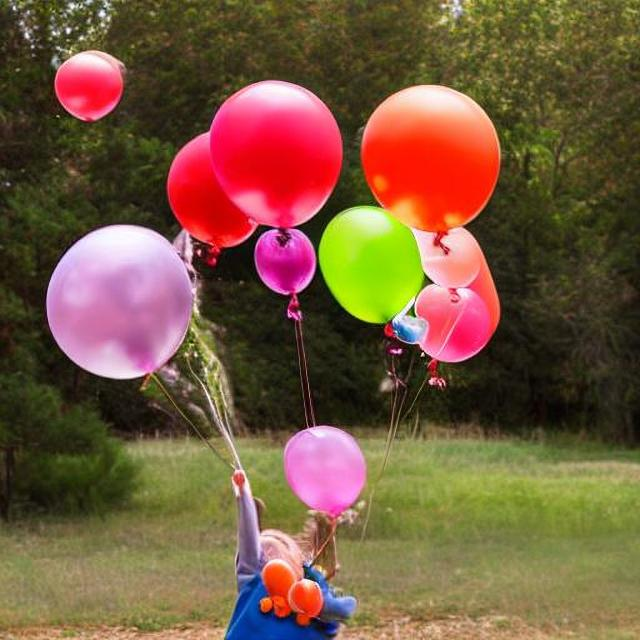balloon: (185, 80, 351, 267), (41, 219, 191, 379), (357, 84, 501, 235), (401, 227, 511, 370), (319, 204, 417, 322), (277, 430, 373, 518), (50, 49, 126, 122), (251, 222, 318, 294)
